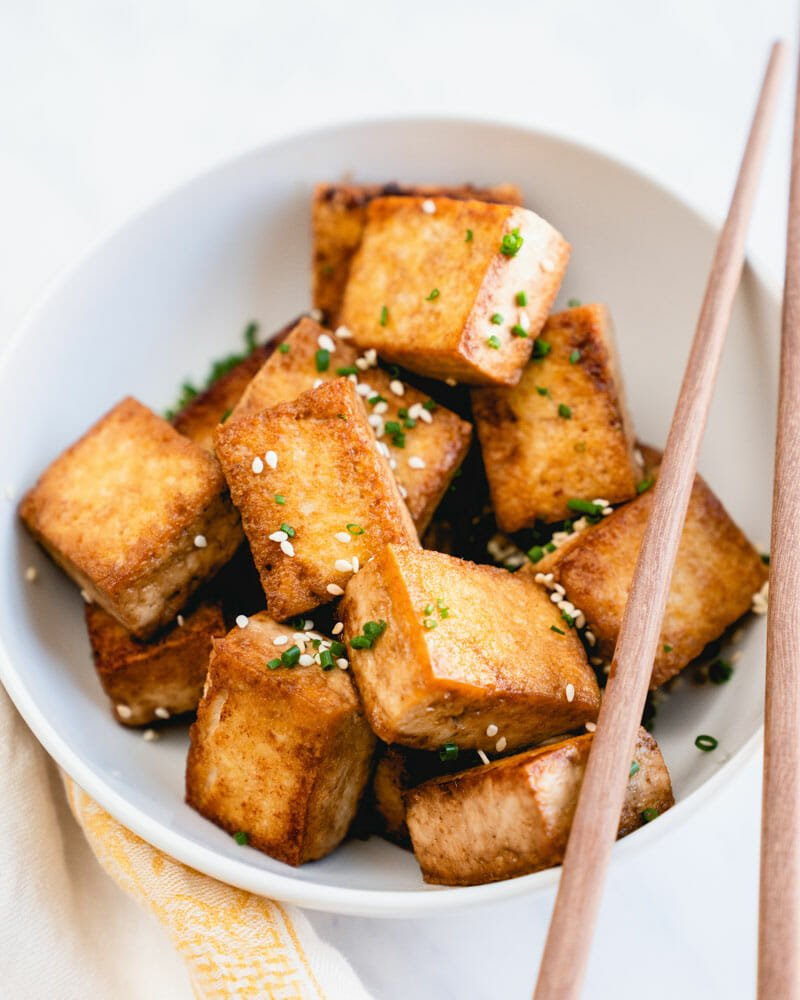Tahu: (335, 168, 565, 382), (357, 516, 586, 705), (524, 480, 738, 663), (167, 631, 366, 826), (217, 387, 394, 600), (413, 711, 672, 853), (475, 312, 657, 497), (62, 397, 218, 586)
